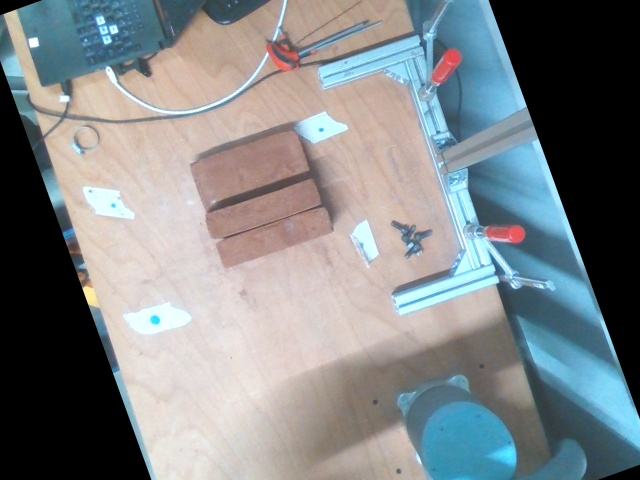brick: (189, 126, 309, 210)
brick-side: (216, 205, 333, 270), (205, 179, 322, 241)
